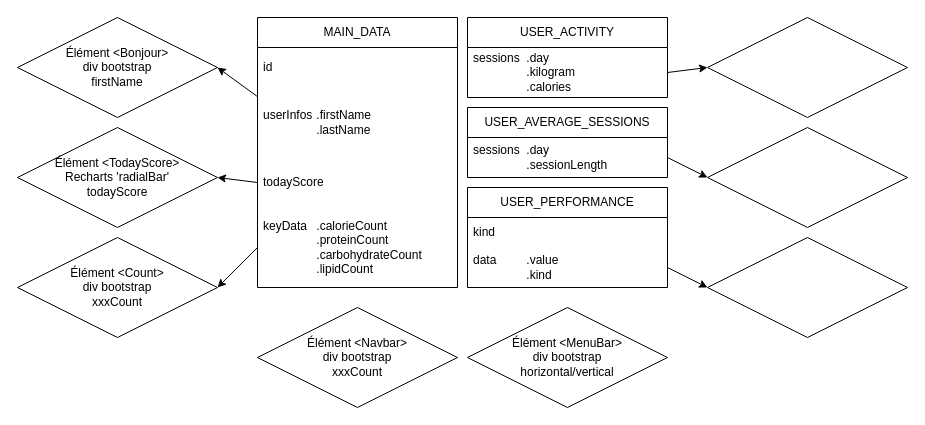
The diagram is 925 pixels wide and 425 high, and some of its shapes have lost their labels. Each missing label, with the centre of its shape:
Élément <AverageSessions> Recharts 'LineCharts' day-sessionLength: point (807, 177)
Élément <DailyActivity> Recharts 'BarChart" day-kilogram-calories: point (807, 67)
Élément <Performance> Recharts 'RadarCharts' kind-value: point (807, 287)
